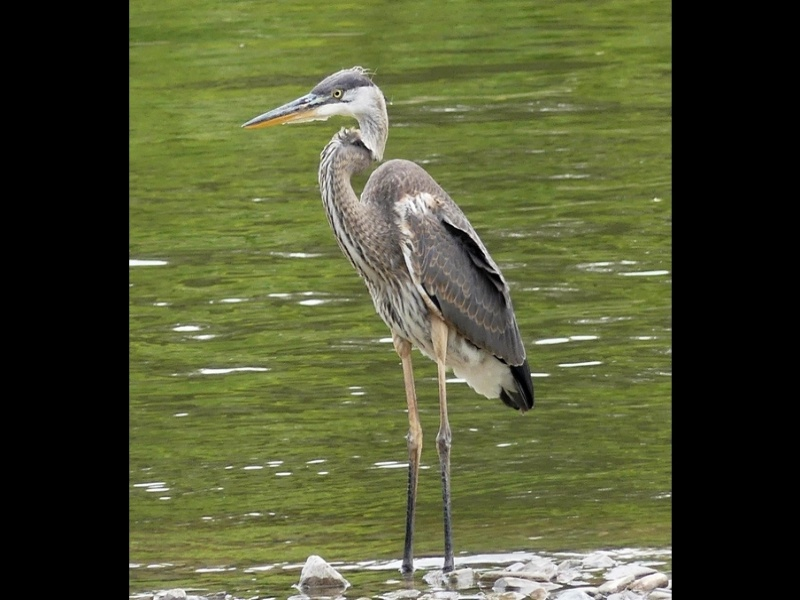heron: (239, 59, 542, 577)
